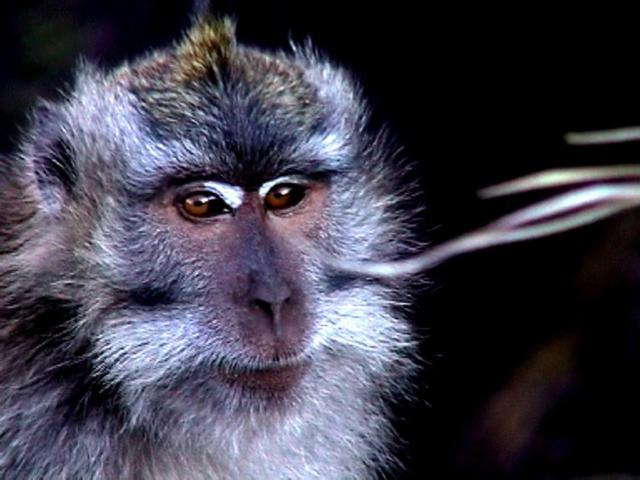monkey: (14, 26, 469, 462)
